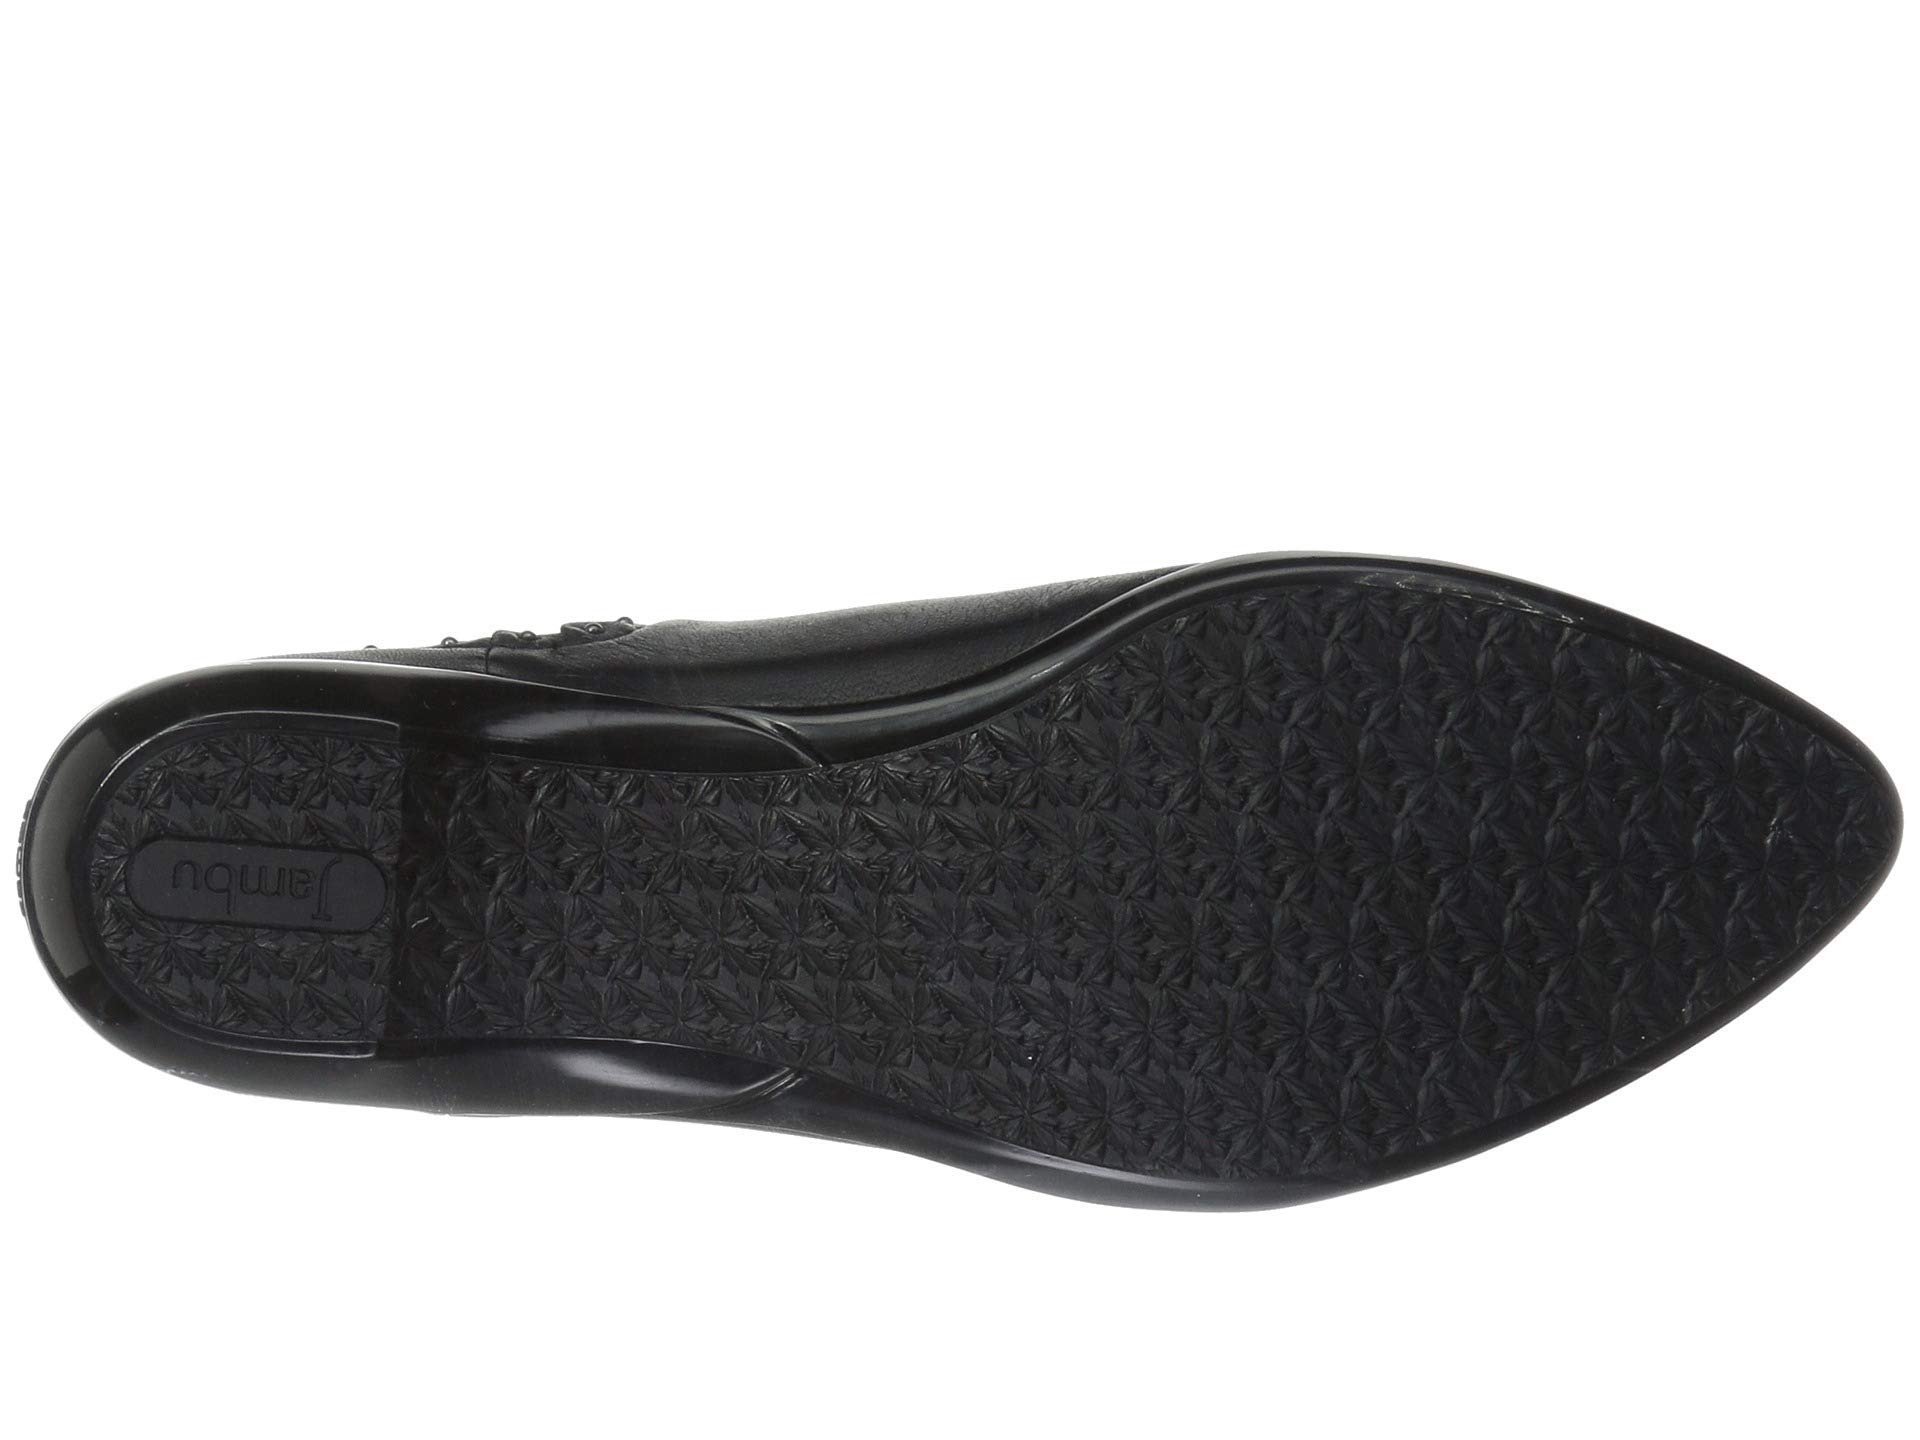other: (1149, 697, 1628, 1023), (921, 803, 1119, 1080)
